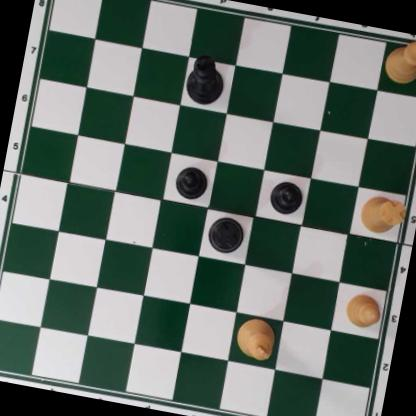black-king: (181, 51, 231, 107)
black-pawn: (266, 177, 305, 217), (173, 164, 210, 202)
black-rook: (206, 213, 247, 256)
white-bishop: (380, 31, 416, 86)
white-king: (231, 312, 278, 364)
white-pawn: (341, 288, 384, 331)
white-rook: (356, 192, 407, 236)
